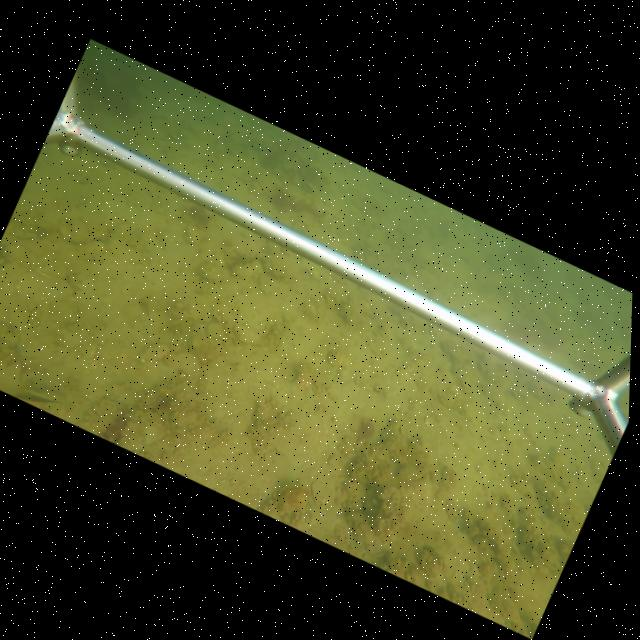Oyster-Open: (228, 321, 262, 349)
